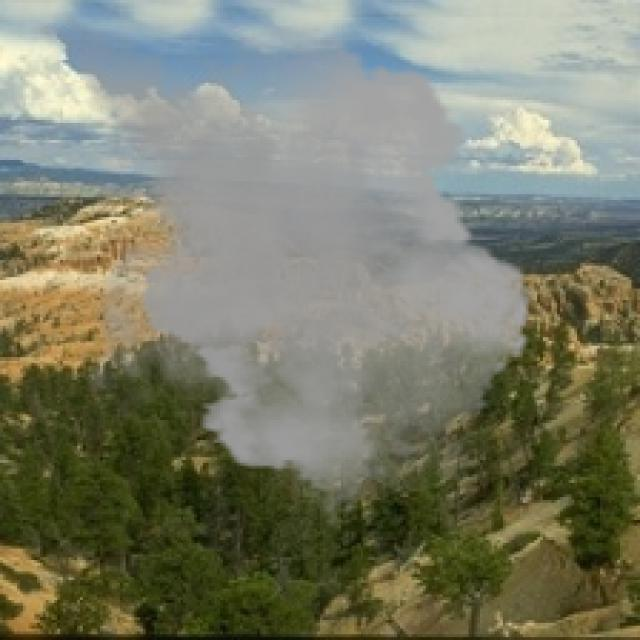Smoke: (3, 6, 546, 528)
